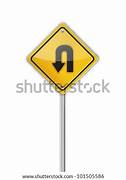back: (27, 24, 98, 93)
